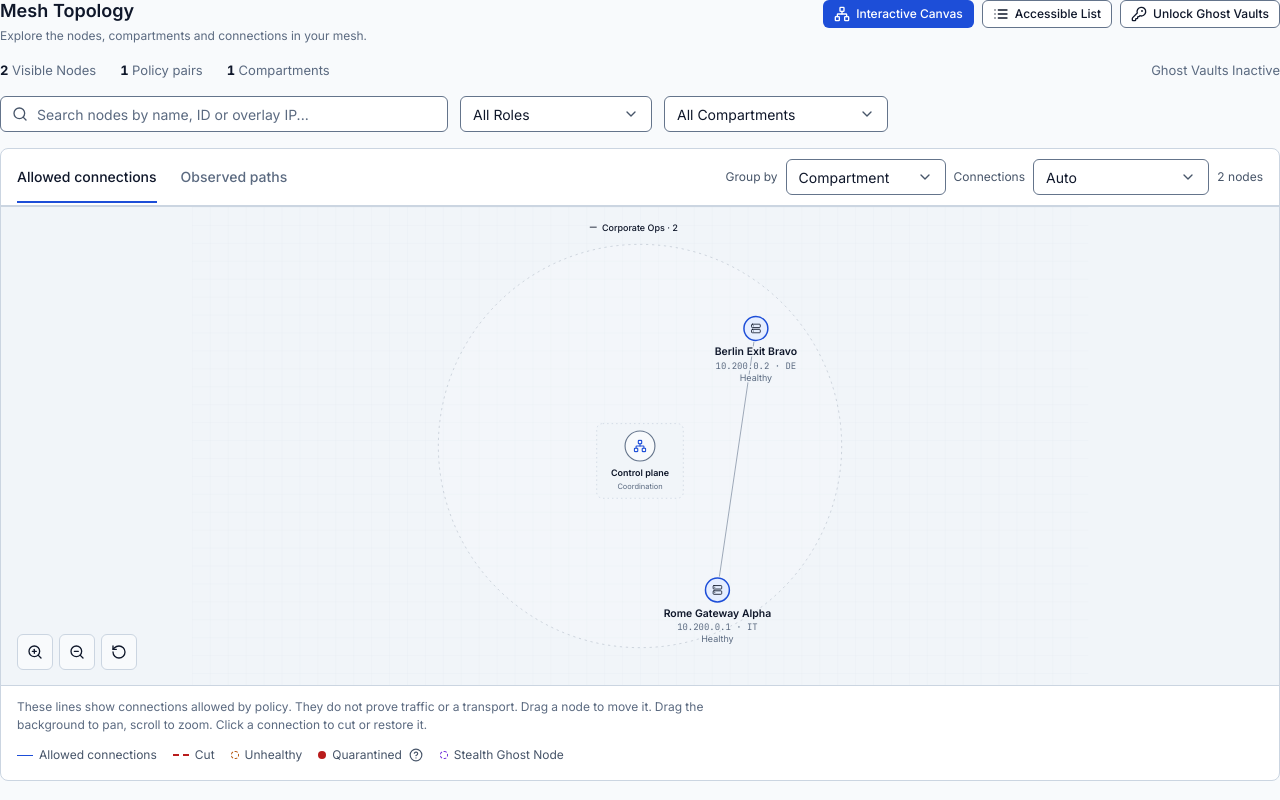
Test case: WP-406: TopologyRoute (Interactive Topology & Ghost Vaults Dynamic Unlock) › 2. Dynamic Unlock: entering master vault password reveals hidden Ghost Vaults
// Click Unlock Ghost Vaults button
Click the button "Unlock Ghost Vaults". click: [1200, 14]
box: [1120, 0, 1279, 28]
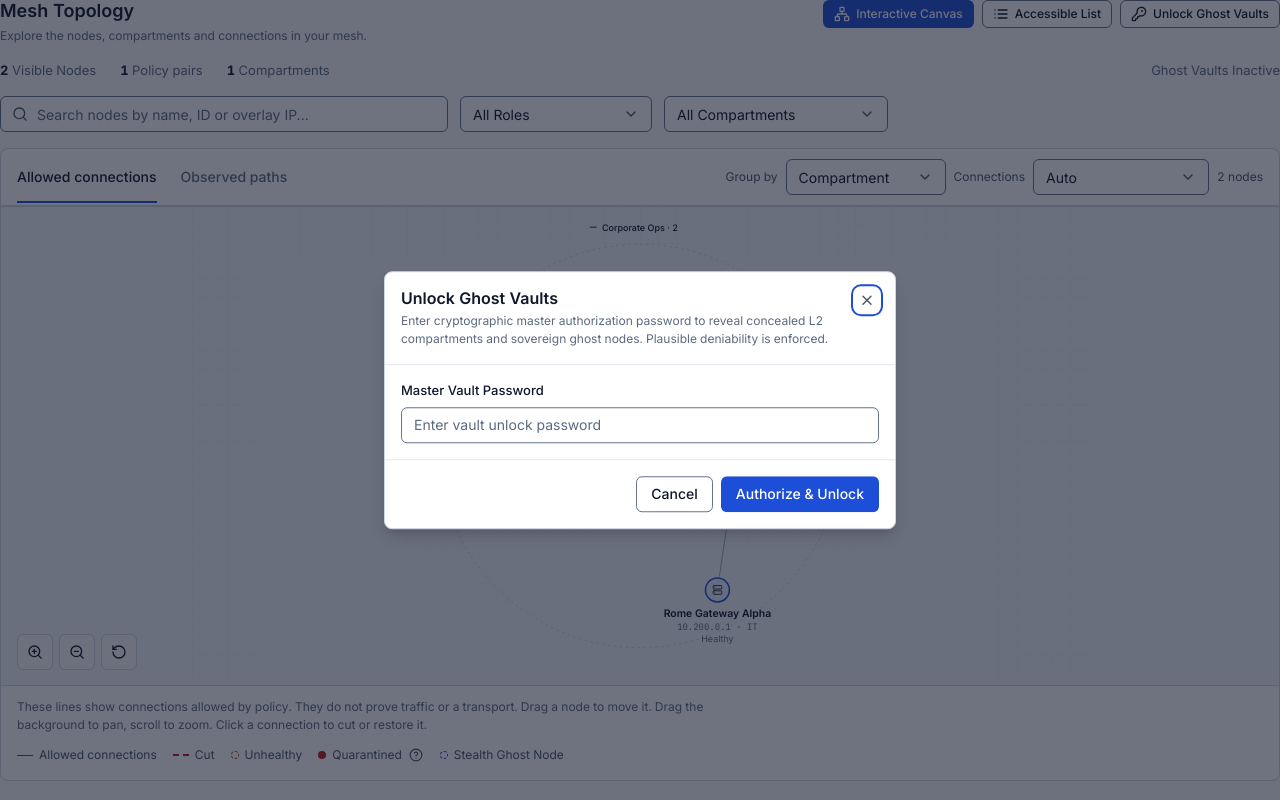
Expected: the heading "Unlock Ghost Vaults" is shown, [401, 288, 558, 308]
// Enter master password
Type "ValidMasterVaultPassword!" into the password field with placeholder "Enter vault unlock password". click: [640, 425]
box: [401, 407, 879, 443]
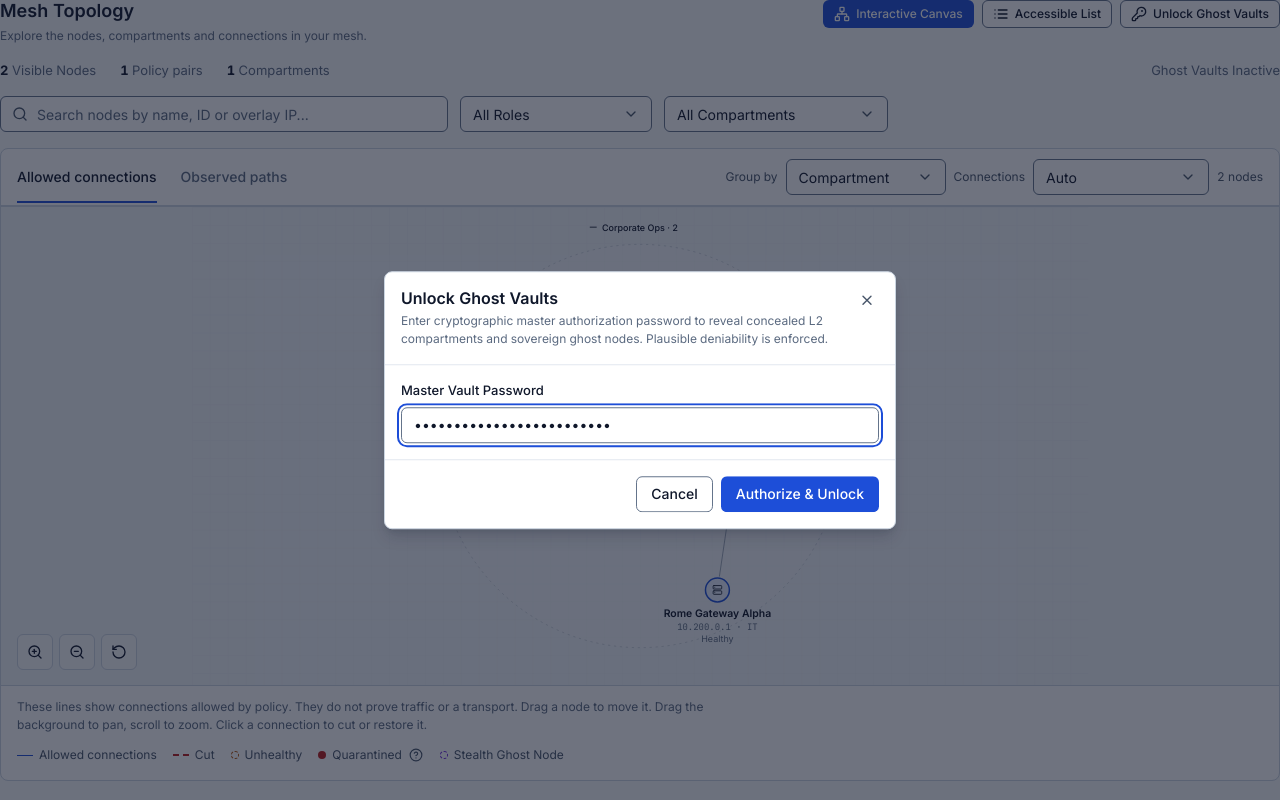
// Click Authorize & Unlock
Click the button "Authorize & Unlock". click: [800, 494]
box: [721, 476, 879, 512]
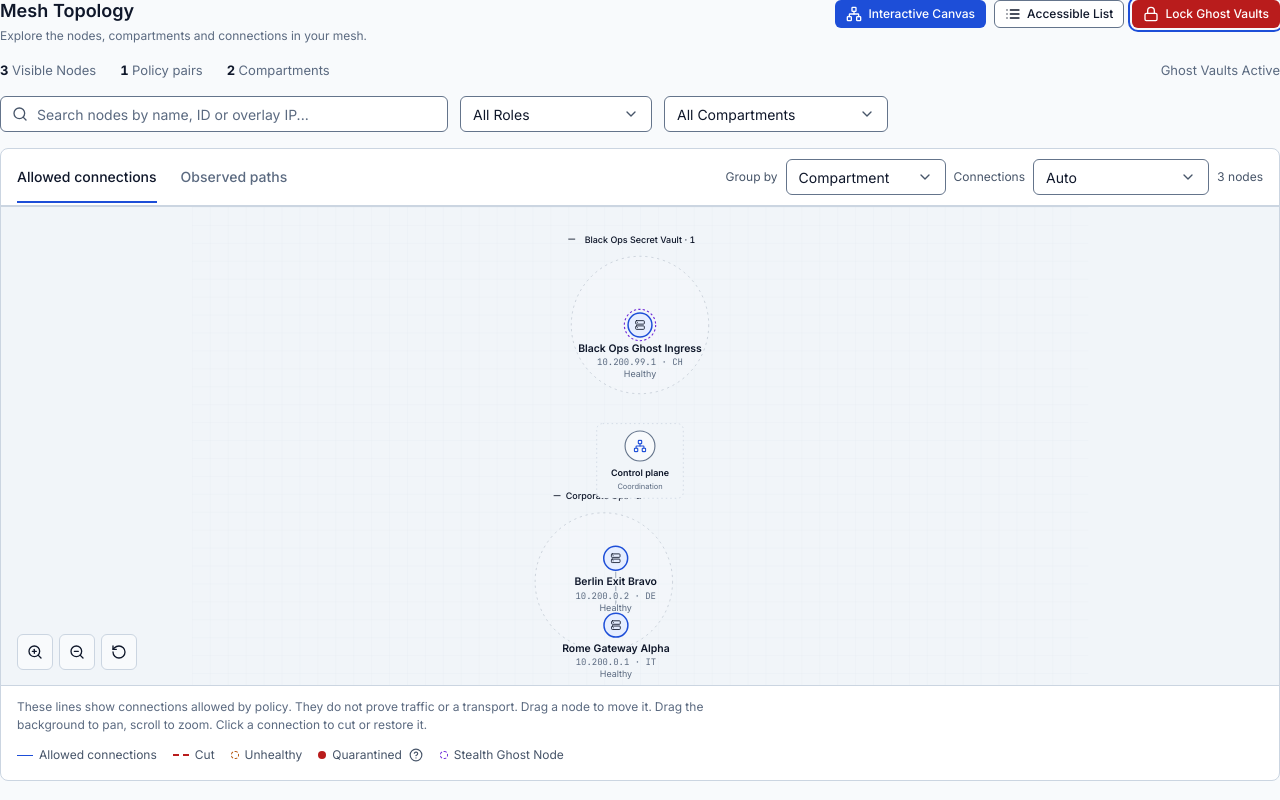
Expected: the button "Lock Ghost Vaults" is shown, [1132, 0, 1279, 28]
Expected: the text "Ghost Vaults Active" is shown, [1161, 60, 1279, 80]
// Switch to List view
Click the button "Accessible List". click: [1059, 14]
box: [994, 0, 1124, 28]
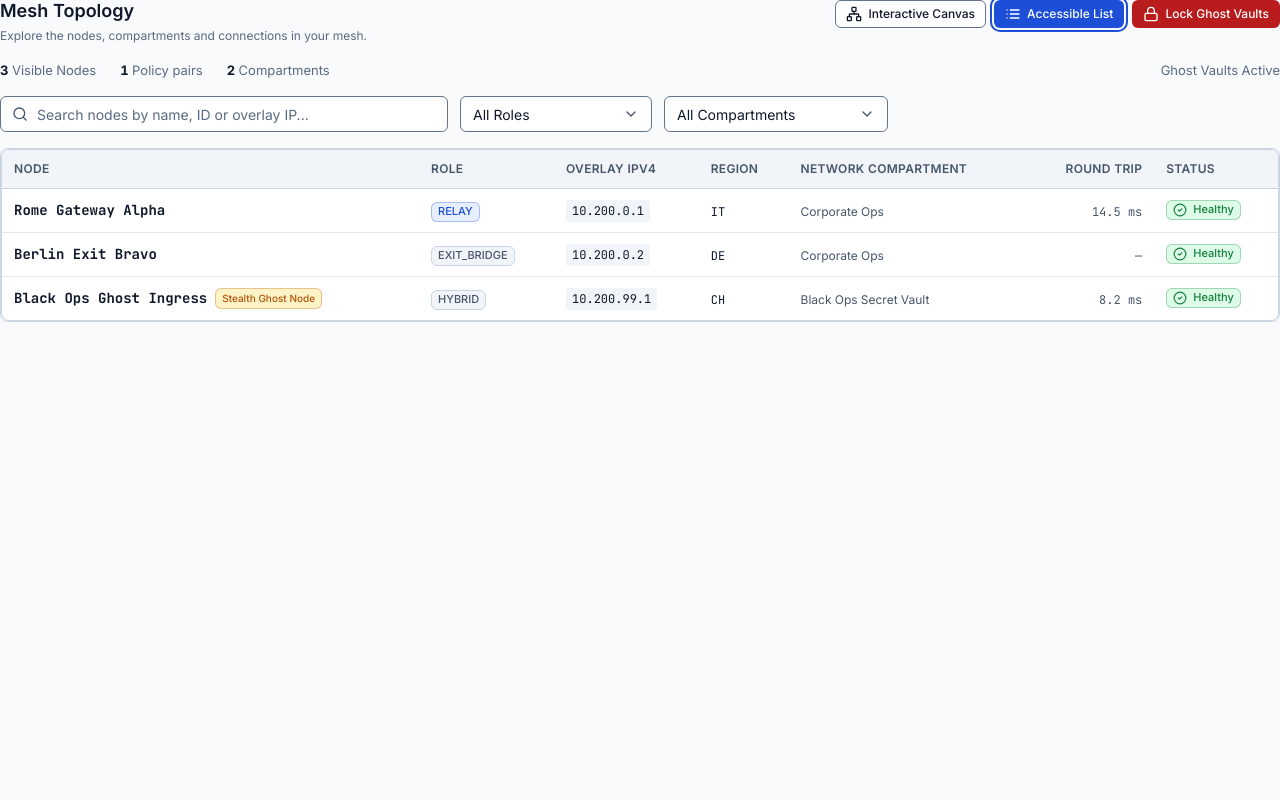
Expected: the text "Stealth Ghost Node" is shown, [215, 288, 322, 309]
Expected: the text "Black Ops Ghost Ingress" is shown, [14, 288, 207, 309]
Expected: the text "Black Ops Secret Vault" is shown, [801, 292, 929, 307]
